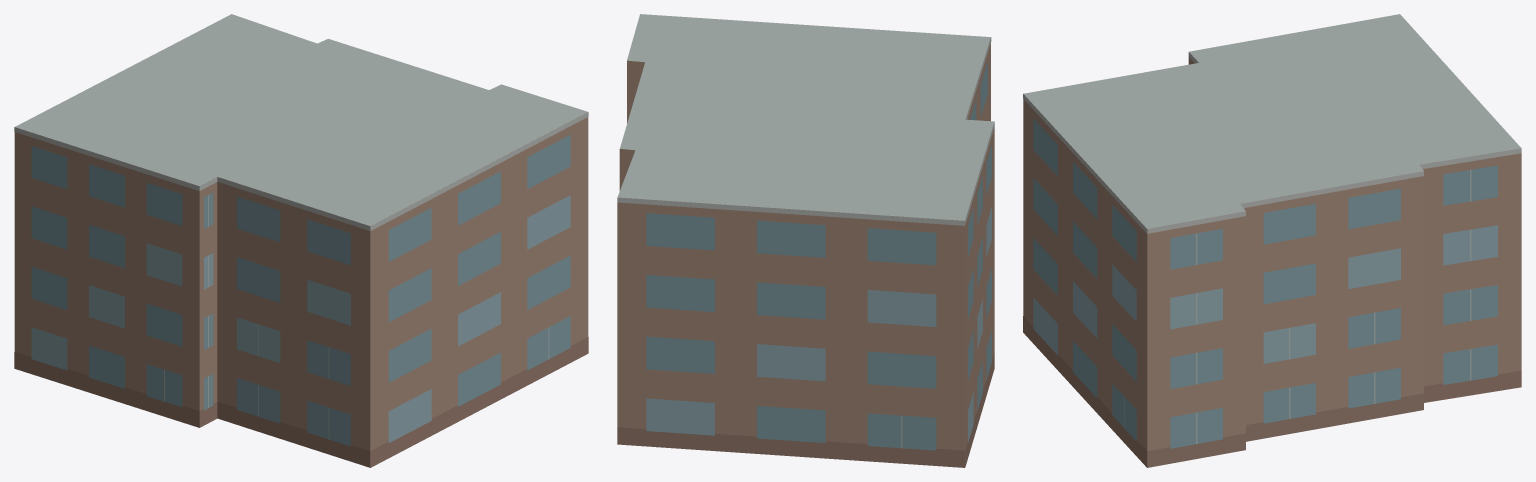
File: survey-upis-32861944.glb
The picture shows the model from 3 angles, left to right: view 1: azimuth 30°, elevation 25°; view 2: azimuth 150°, elevation 25°; view 3: azimuth 270°, elevation 25°; orthographic projection. The views are drawn at different scales.
Parts seen in each view (by area): view 1: survey-upis-32861944.tmp; view 2: survey-upis-32861944.tmp; view 3: survey-upis-32861944.tmp.
Part boxes in pixels (<box>): survey-upis-32861944.tmp: <box>14,14,588,467</box>; survey-upis-32861944.tmp: <box>617,14,994,467</box>; survey-upis-32861944.tmp: <box>1023,14,1521,467</box>.
Bounding box in the file's own units: 23.28 × 12.05 × 22.8.
